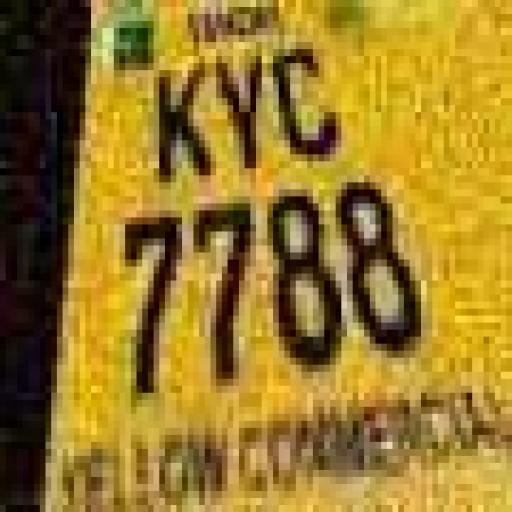7: (115, 216, 185, 386), (196, 203, 254, 392)
8: (332, 182, 426, 376), (263, 189, 331, 386)
C: (271, 44, 342, 170)
K: (151, 61, 209, 181)
Y: (206, 52, 270, 180)
